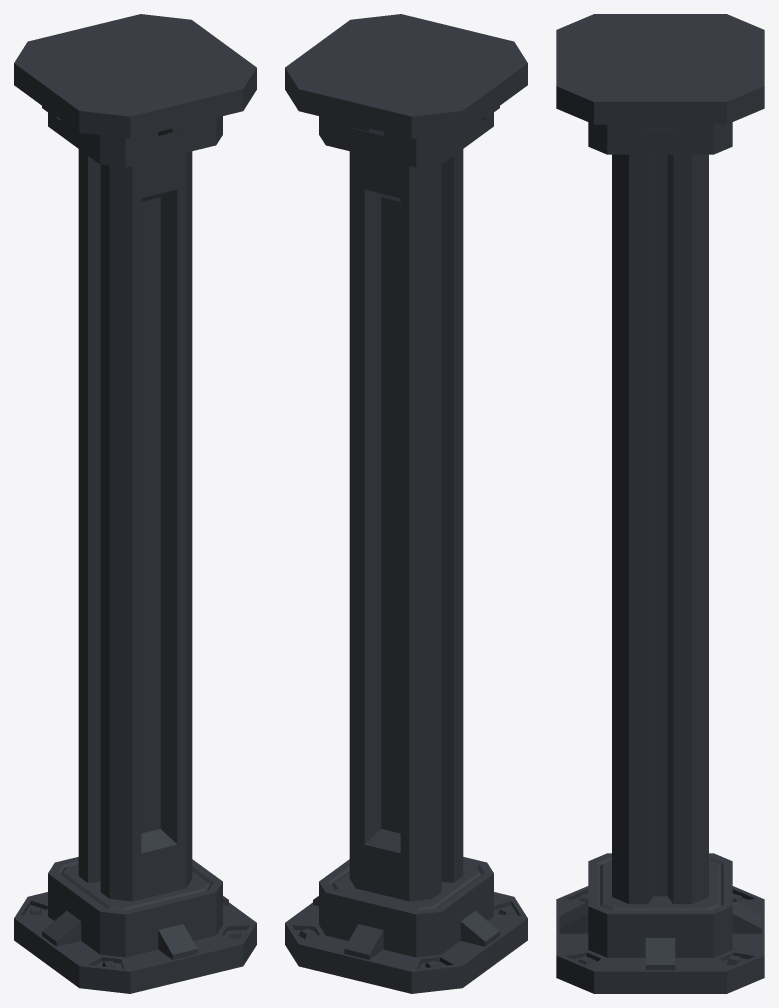
File: SM_Pillar_1.glb
3 views of the same model, side by side, from view 1: azimuth 30°, elevation 25°; view 2: azimuth 150°, elevation 25°; view 3: azimuth 270°, elevation 25° (orthographic).
Visible parts, largest first — view 1: SM_Pillar_1; view 2: SM_Pillar_1; view 3: SM_Pillar_1.
Boxes of the visible parts, box(x1,y1,x2,y2) form: SM_Pillar_1: box(14, 14, 256, 993); SM_Pillar_1: box(285, 14, 527, 993); SM_Pillar_1: box(556, 14, 764, 993).
Bounding box in the file's own units: 0.772 × 3.64 × 0.772.
1 material, 1 textured.
